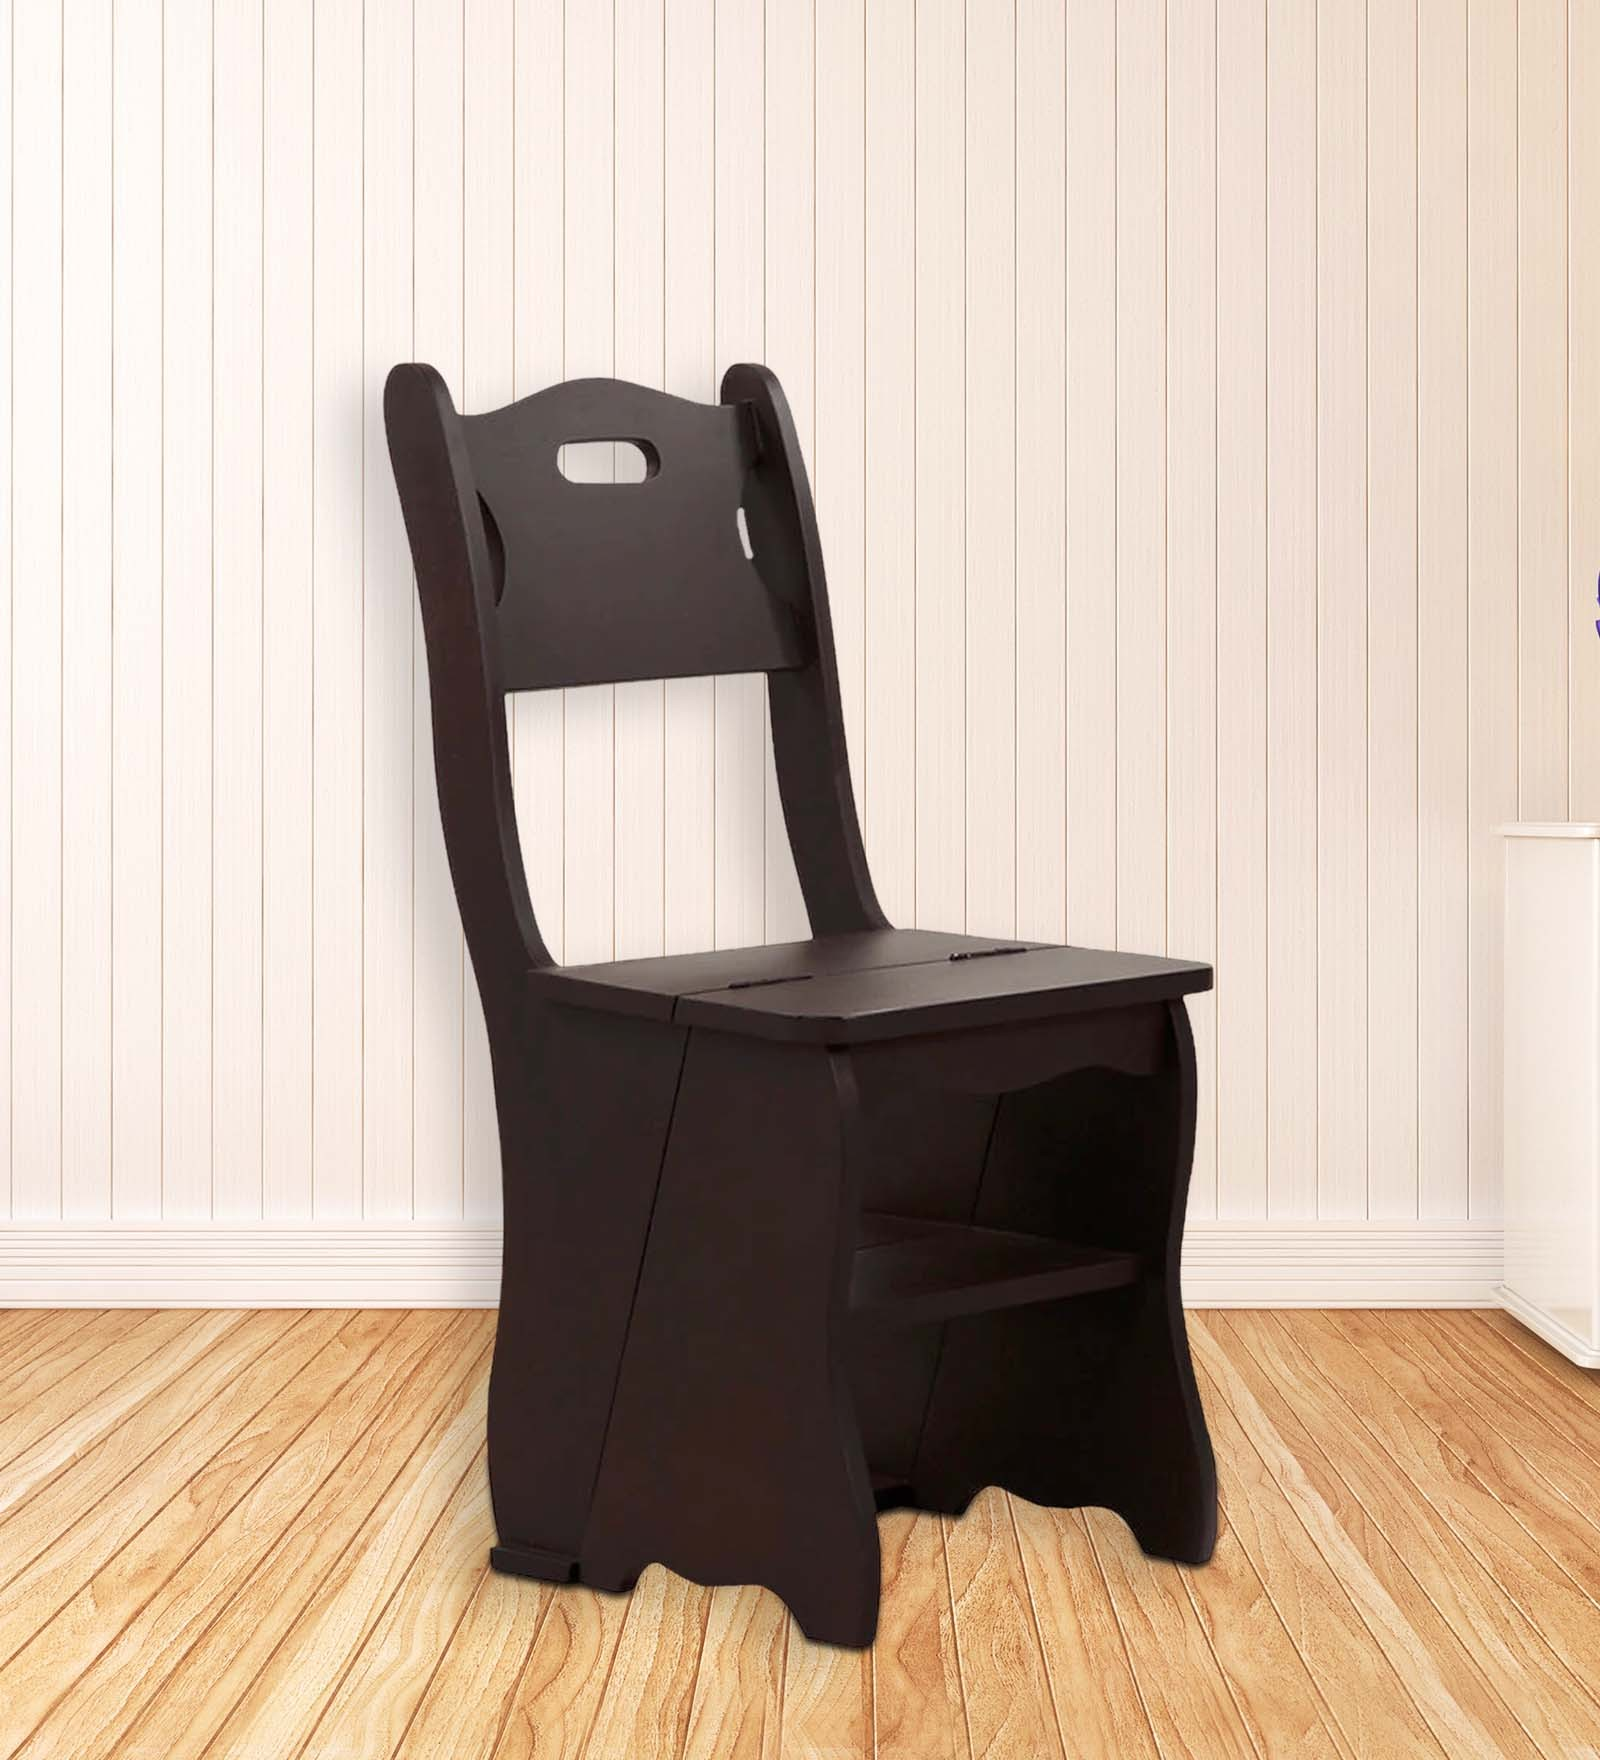Folding Chair cum Ladder by ARRA: (352, 343, 1284, 1677)
